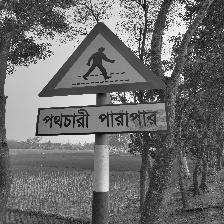Pedestrian-crossing: (36, 22, 170, 138)
